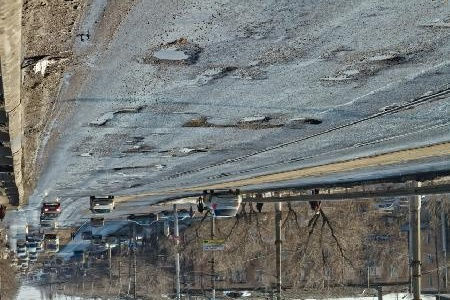pothole: (318, 53, 407, 84), (139, 38, 202, 68), (85, 103, 146, 128), (200, 64, 238, 82), (173, 143, 212, 158), (230, 122, 284, 131), (180, 114, 212, 129), (233, 114, 270, 125), (122, 142, 152, 155), (299, 116, 322, 127), (76, 152, 93, 160), (152, 163, 167, 171)
